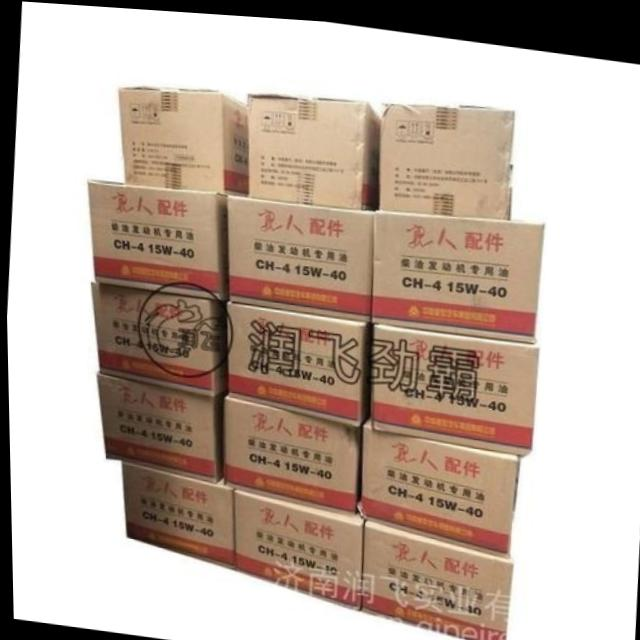box: (372, 203, 543, 334), (356, 413, 518, 550), (368, 319, 537, 448), (358, 514, 511, 640), (222, 194, 374, 318), (225, 298, 370, 423), (222, 390, 360, 510), (230, 481, 361, 606), (87, 178, 225, 296), (375, 99, 513, 212), (247, 89, 381, 203), (90, 281, 225, 393), (117, 86, 248, 194), (97, 373, 219, 480), (118, 460, 232, 566)
